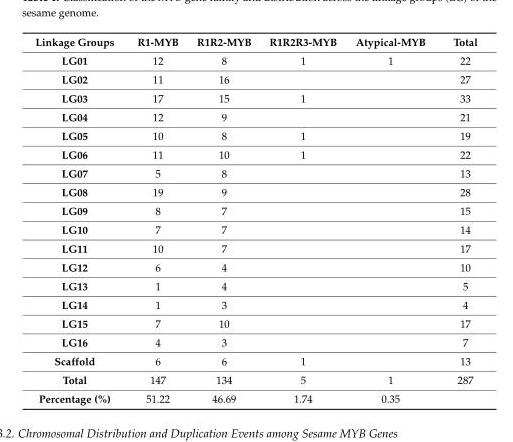table: (34, 35, 476, 405)
table column: (345, 35, 438, 405), (34, 35, 124, 405), (259, 35, 345, 405), (186, 35, 259, 405), (124, 35, 186, 405), (438, 35, 476, 405)
table column header: (34, 35, 476, 51)
table row: (34, 69, 476, 88), (34, 88, 476, 107), (34, 107, 476, 126), (34, 144, 476, 163), (34, 163, 476, 182), (34, 182, 476, 201), (34, 201, 476, 220), (34, 238, 476, 257), (34, 257, 476, 276), (34, 276, 476, 295), (34, 313, 476, 332), (34, 332, 476, 351), (34, 351, 476, 370), (34, 370, 476, 389), (34, 51, 476, 69), (34, 126, 476, 144), (34, 220, 476, 238), (34, 295, 476, 313), (34, 35, 476, 51), (34, 389, 476, 405)
